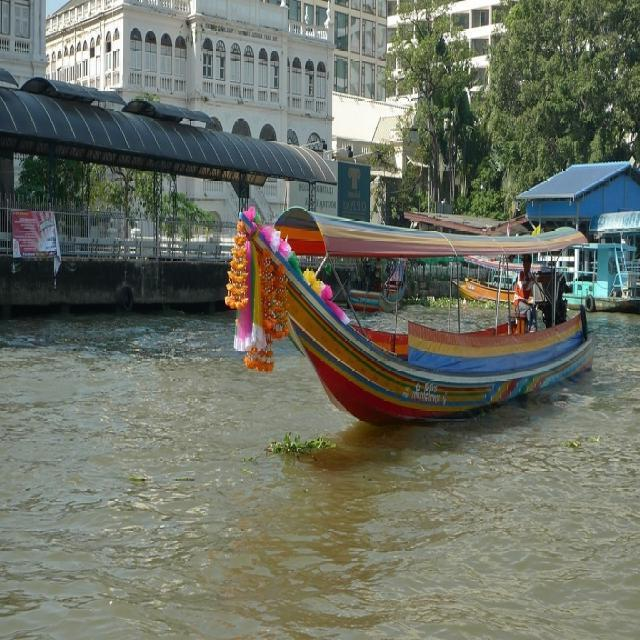Hyacinth: (254, 430, 334, 470), (432, 294, 478, 308)
boat: (234, 200, 604, 428), (351, 270, 422, 312)
